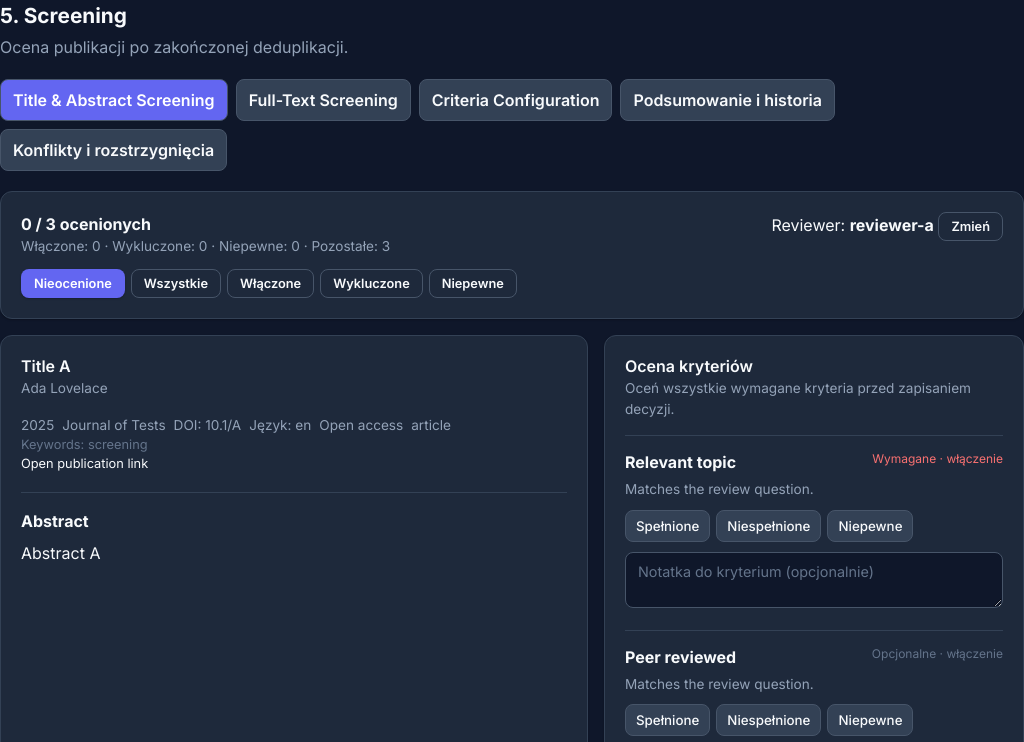
Test: Title & Abstract Screening GUI (Phase 7.5C) › reloads the workflow for an explicitly changed reviewer and retains reviewer-specific resume state
The width and height of the screenshot is (1024, 742).
Expected: the heading "Title A" is shown, [21,356,71,376]
Click the button "Zmień": (971, 227) [938,212,1003,241]
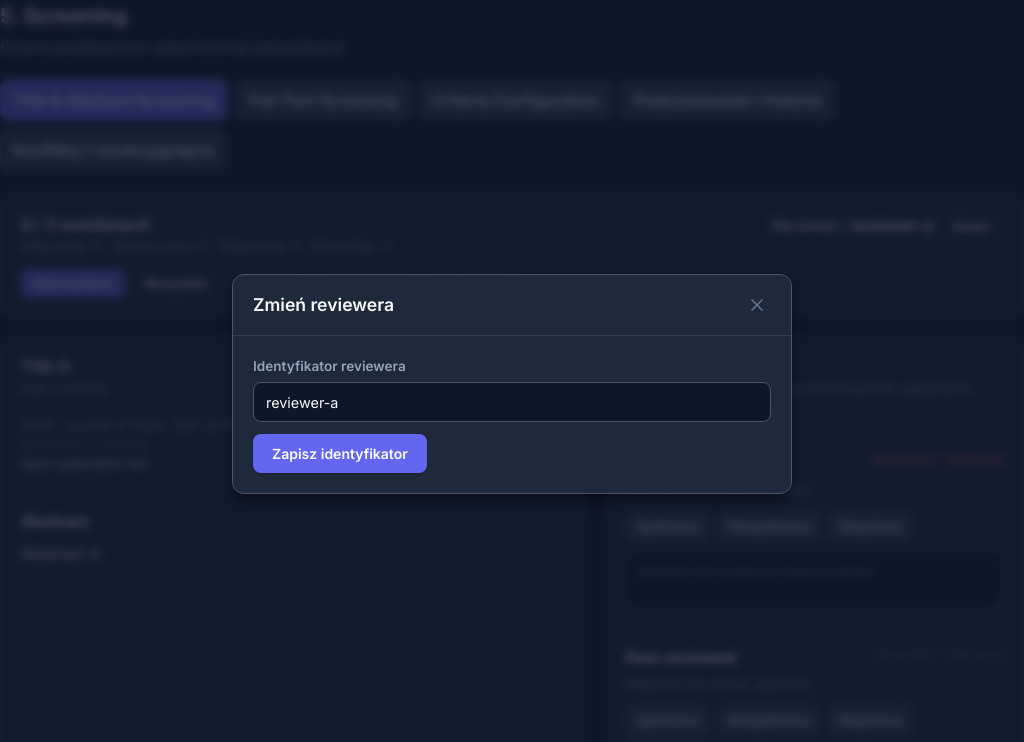
Replace the text in the field named "Reviewer identifier" with "reviewer-b": (512, 402) [253,382,771,422]
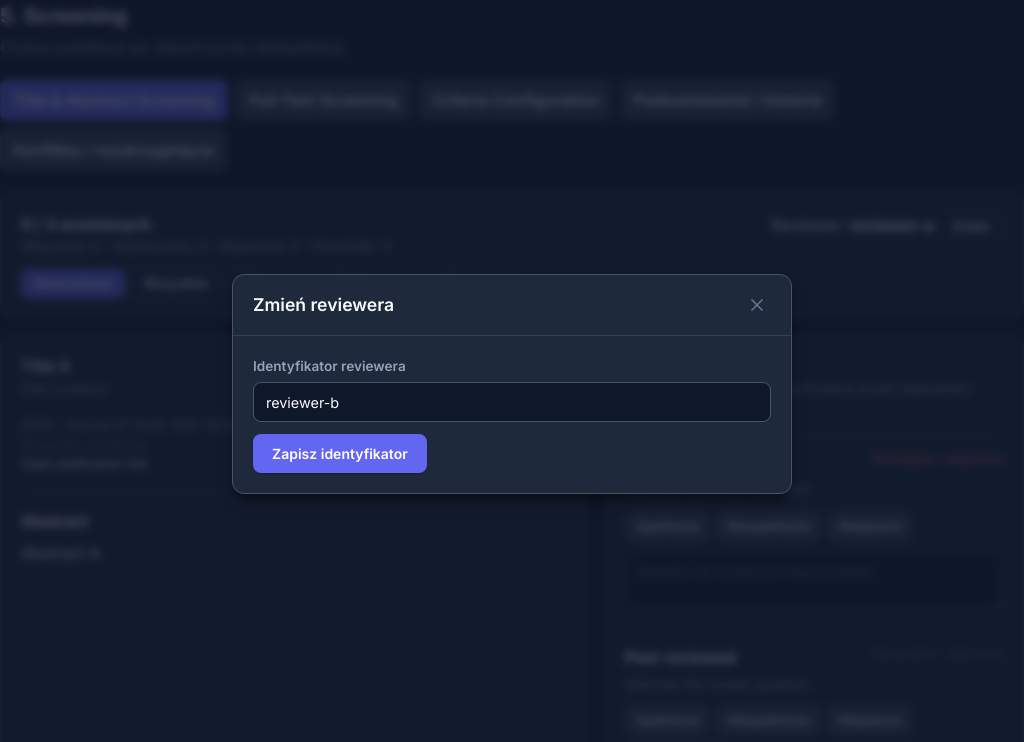
Click the button "Zapisz identyfikator": (340, 454) [253,434,427,473]
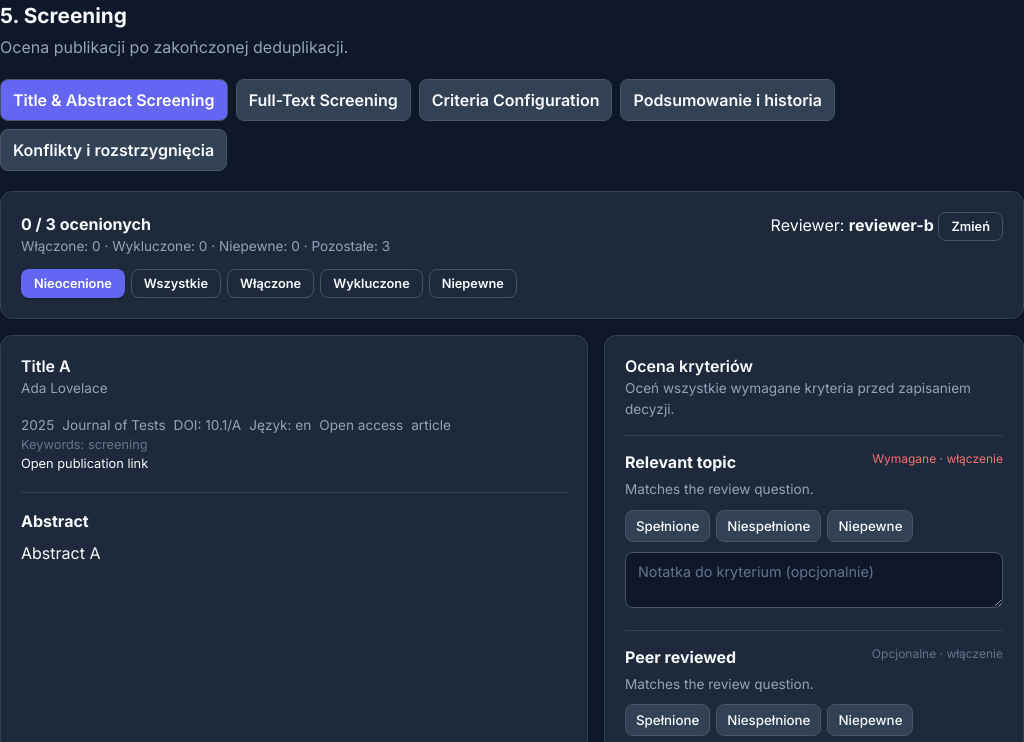
Now the text "reviewer-b" is shown, box [849,215,934,235]
